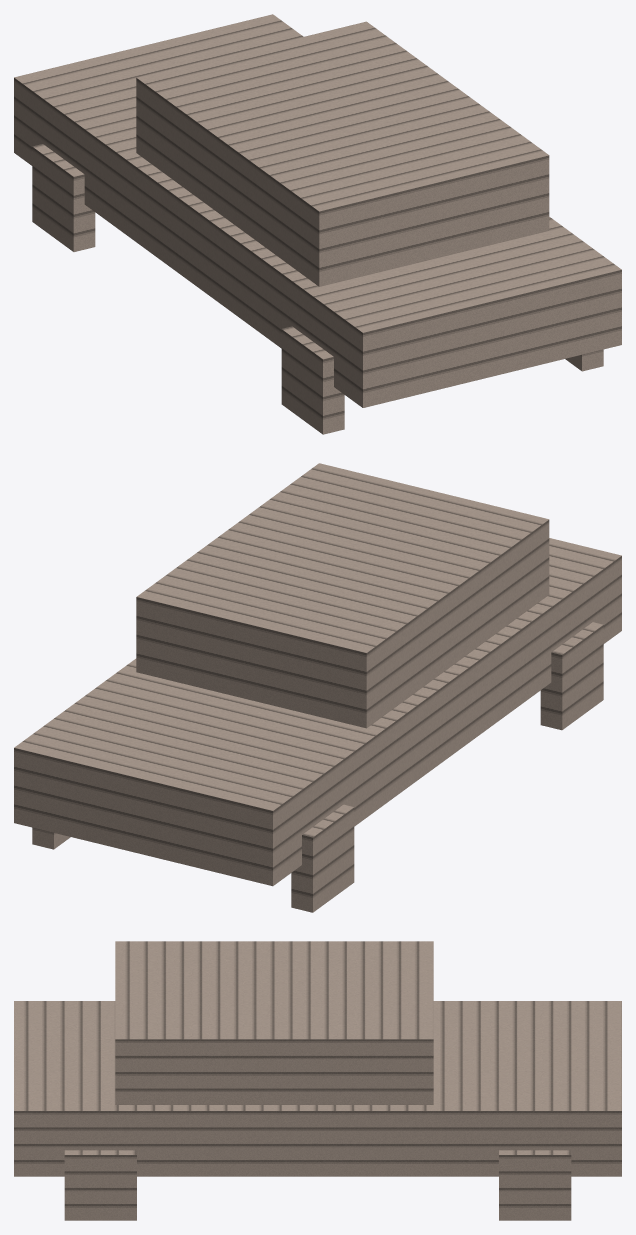
File: derelict_car.glb
3 renders of one model, top to bottom at view 1: azimuth 30°, elevation 25°; view 2: azimuth 150°, elevation 25°; view 3: azimuth 270°, elevation 25°, orthographic. The views are drawn at different scales.
Visible parts, largest first — view 1: derelict_car-col; view 2: derelict_car-col; view 3: derelict_car-col.
Part boxes in pixels (box(x1,y1,x2,y2)): derelict_car-col: box(14, 14, 621, 434); derelict_car-col: box(14, 463, 621, 912); derelict_car-col: box(14, 941, 621, 1220).
Bounding box in the file's own units: 1.95 × 1.3 × 4.2.
3 materials, 3 textured.
